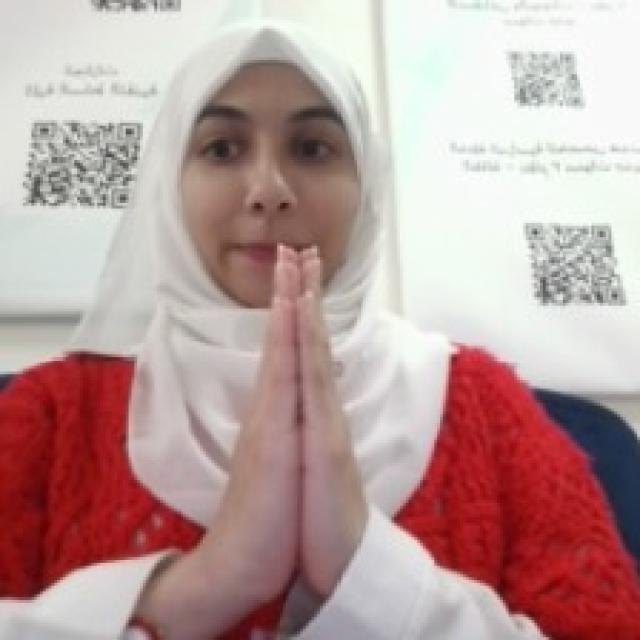sorry: (214, 226, 369, 588)
